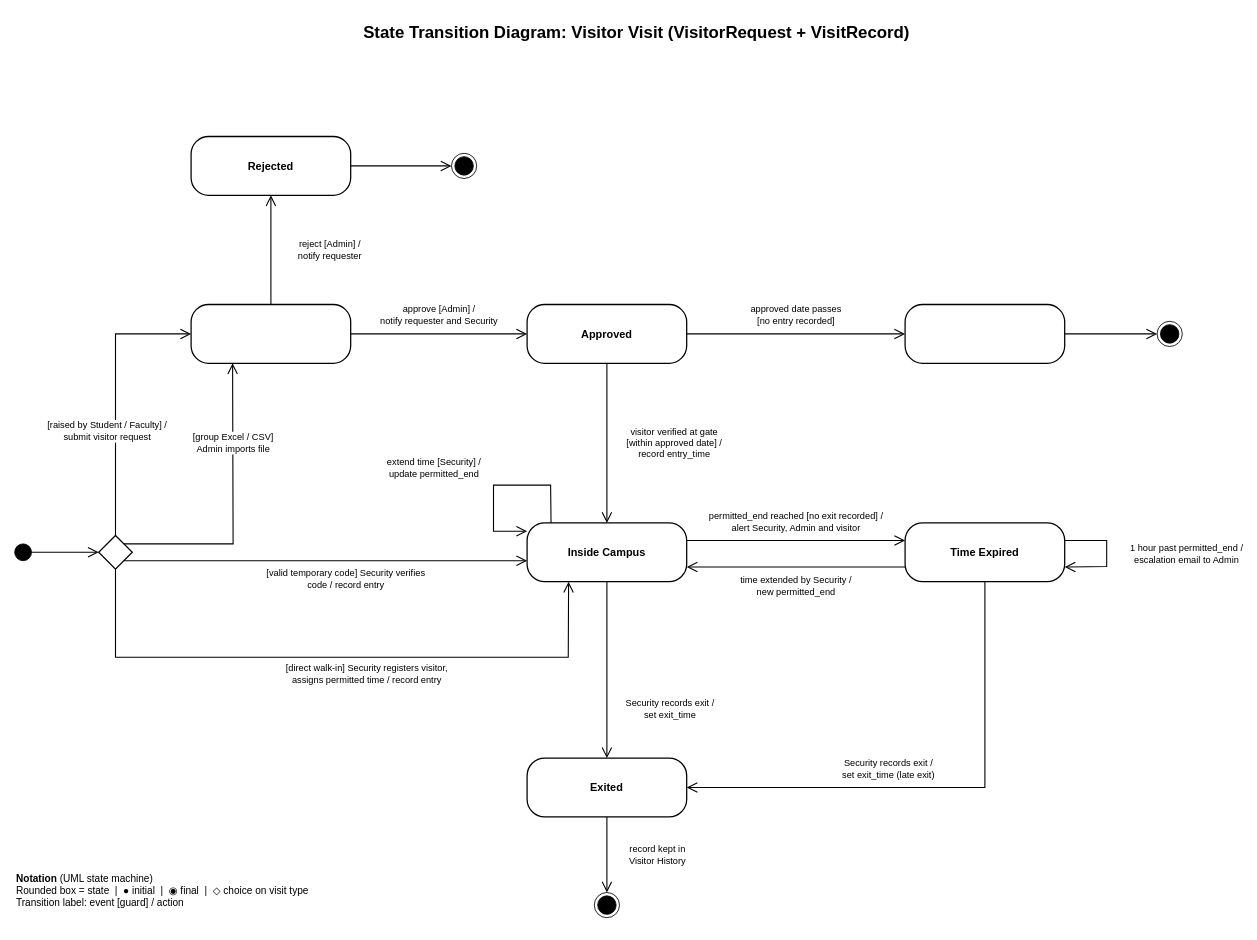
Some shapes in this 1257 by 940 pixel diagram are drawn without their labels. The shapes that lost their labels are listed below. From the top down, each one's centre as x and y in pixels, then its label:
At (270,333): "Pending".
At (984,333): "Lapsed (no-show)".
